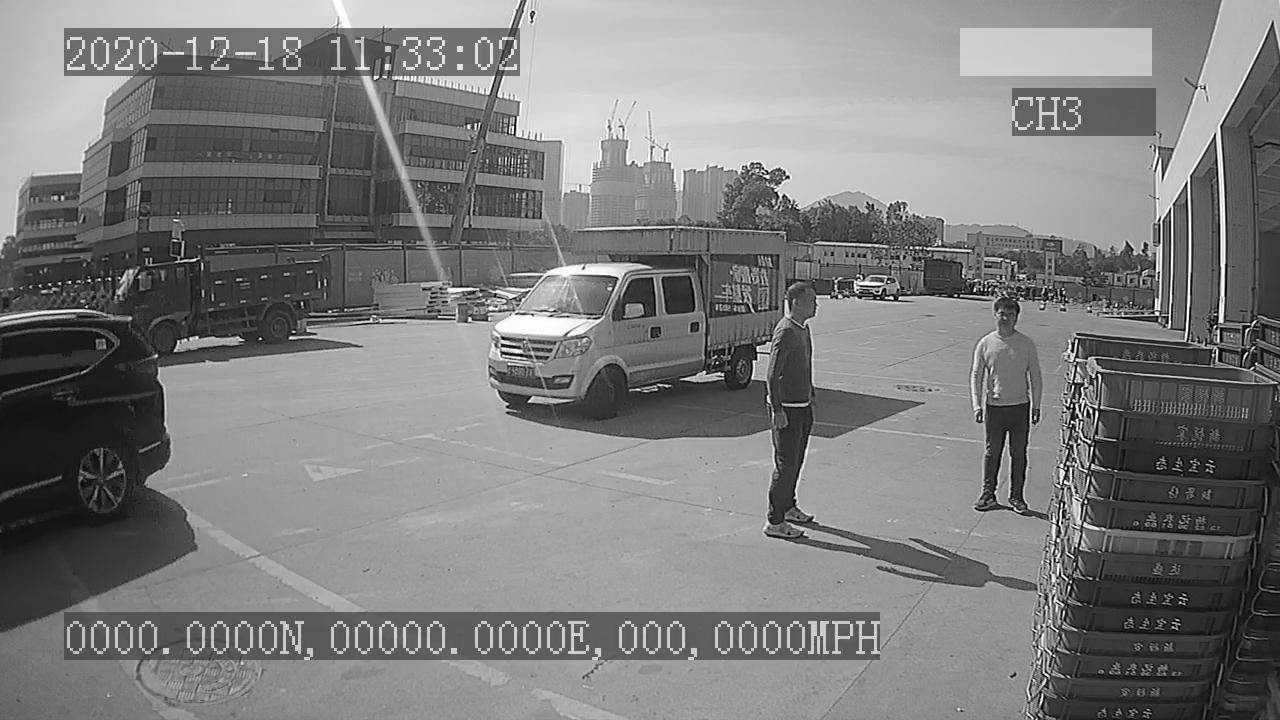person: (967, 290, 1045, 514)
